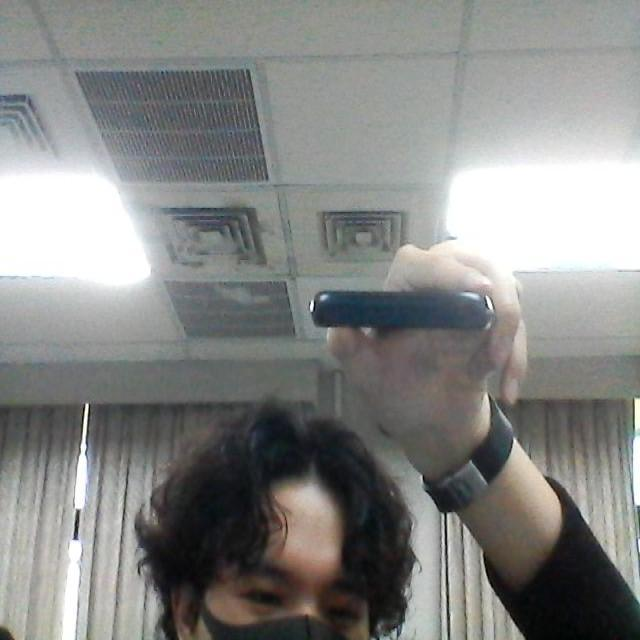phone: (308, 272, 498, 340)
